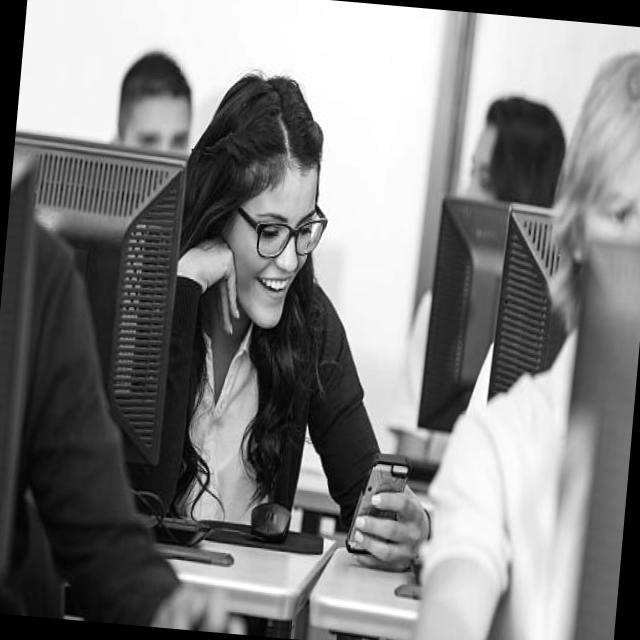phone: (345, 452, 413, 558), (148, 513, 210, 546)
